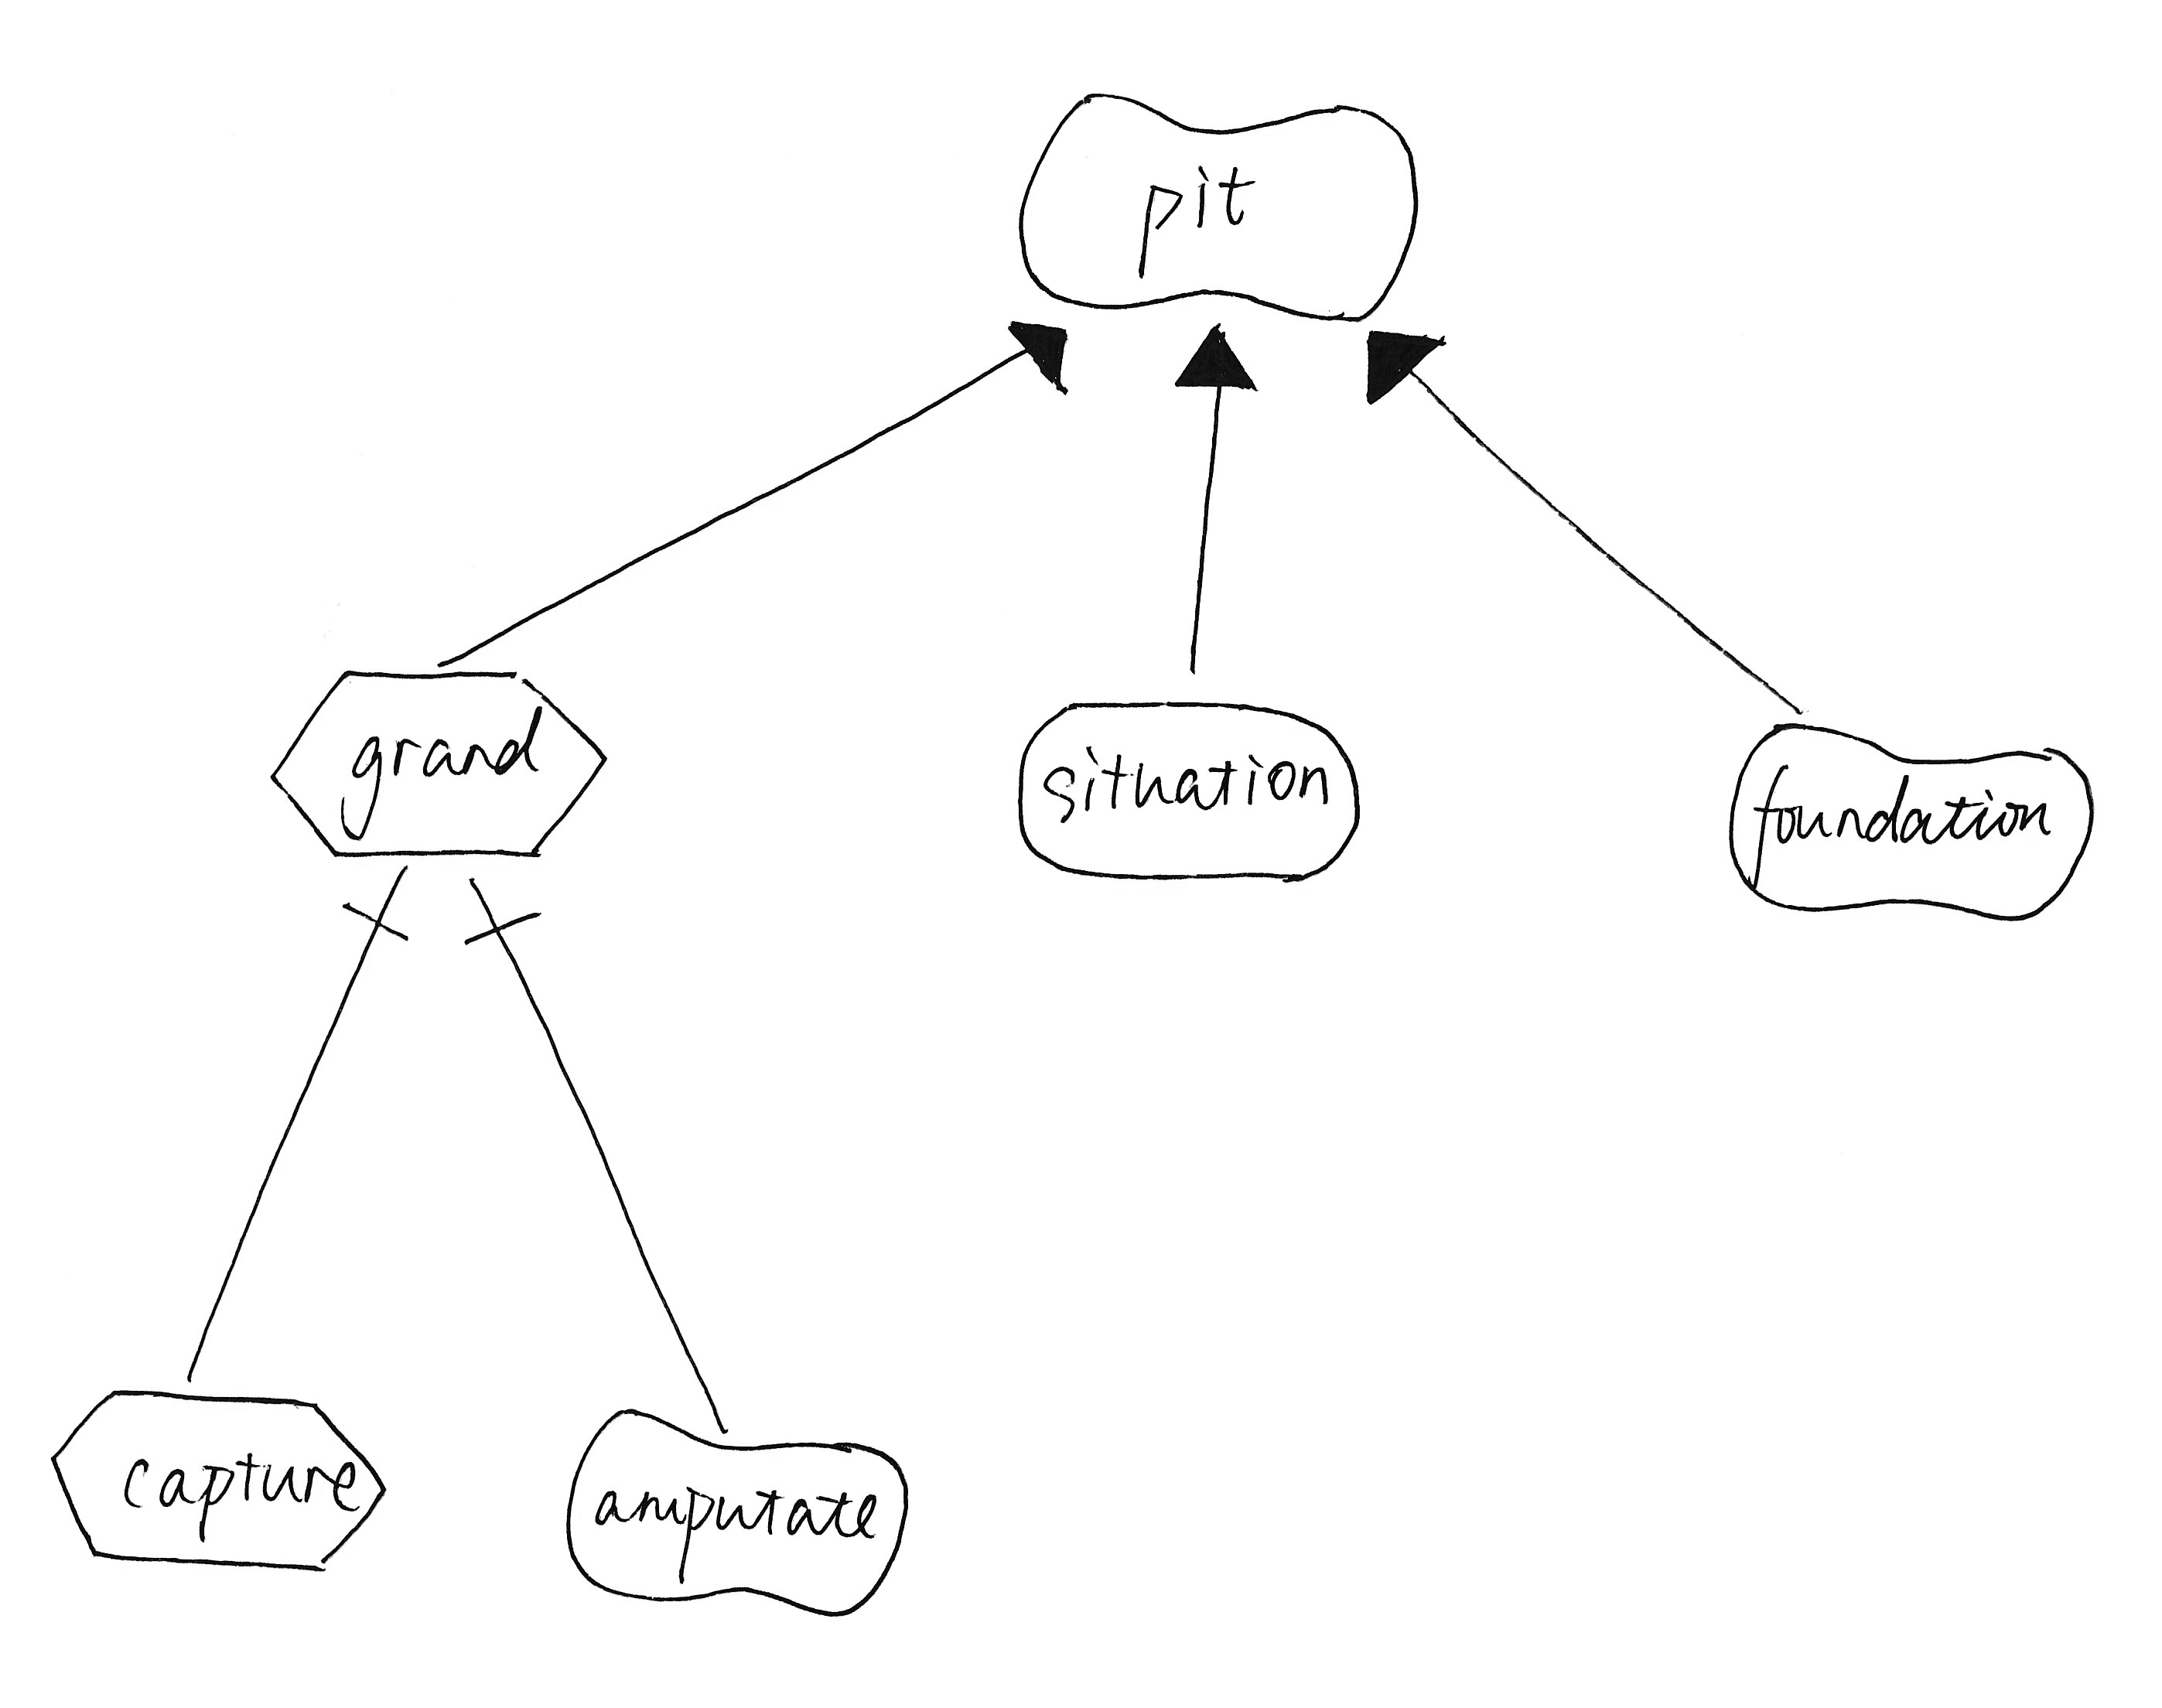and: (449, 865, 565, 981), (325, 860, 432, 967)
goal: (1000, 681, 1379, 906)
or: (1349, 325, 1462, 420), (1165, 314, 1274, 411), (999, 307, 1085, 411)
quality: (1009, 77, 1432, 334), (1704, 700, 2109, 943), (549, 1390, 927, 1633)
task: (254, 653, 628, 881), (37, 1373, 405, 1592)
